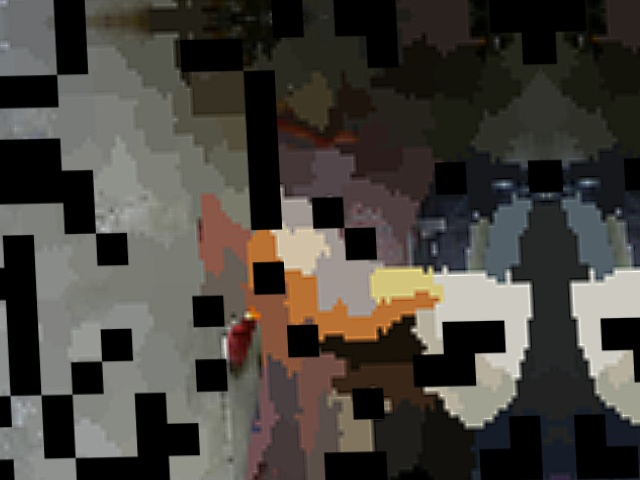one: (496, 288, 531, 329)
